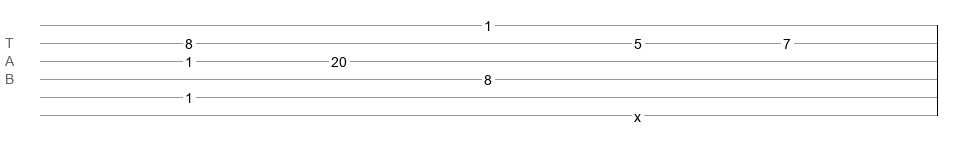1: (185, 54, 193, 64), (185, 90, 193, 100), (484, 18, 492, 28)
20: (331, 54, 347, 64)
5: (634, 36, 642, 46)
7: (783, 36, 791, 46)
8: (185, 36, 193, 46), (484, 72, 492, 82)
x: (634, 109, 641, 117)
